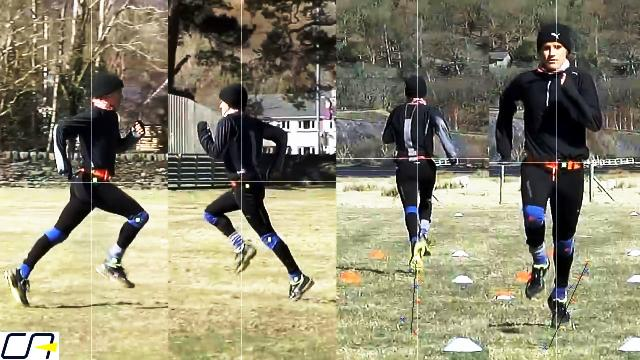berlari: (488, 19, 606, 338), (8, 70, 152, 310), (185, 80, 318, 304), (384, 68, 464, 274)
